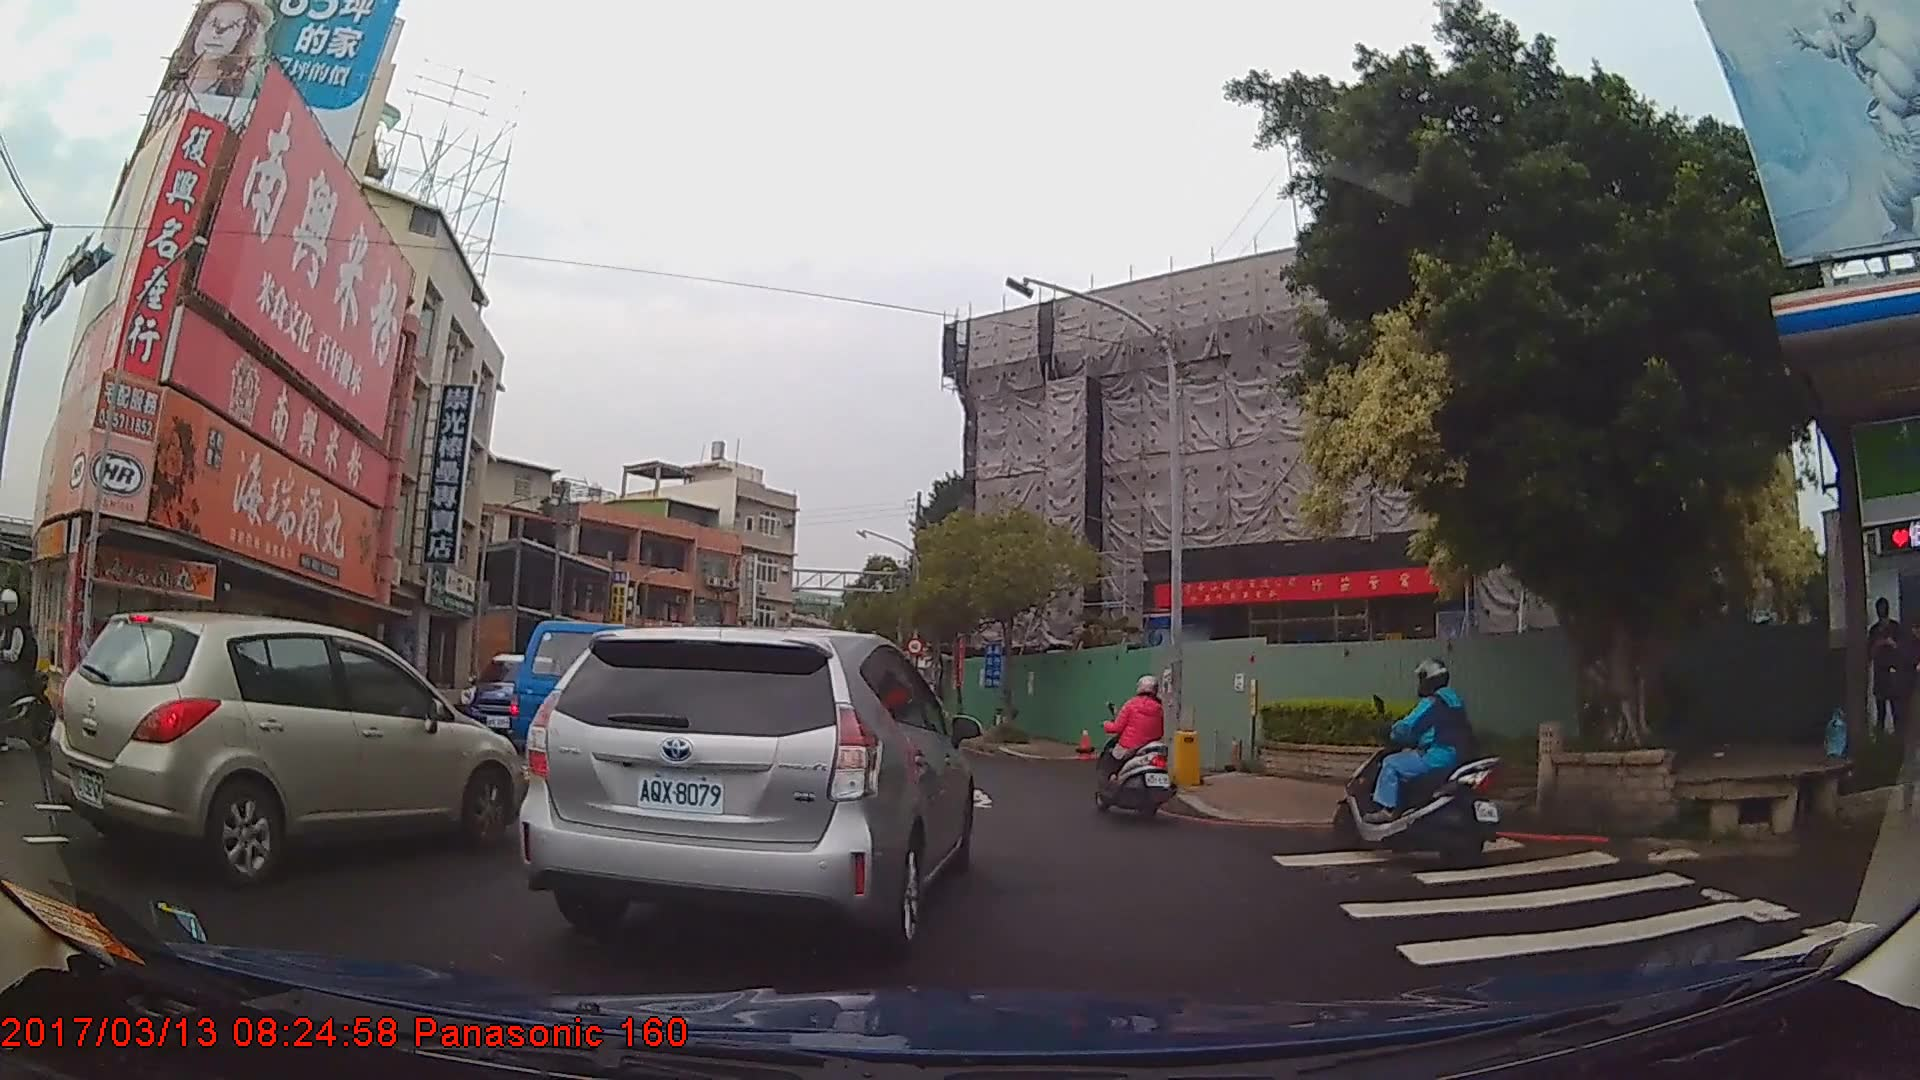pedestrian: (1865, 595, 1906, 734)
rider: (1337, 658, 1509, 863), (1090, 670, 1177, 819)
vehicle: (513, 623, 974, 954), (44, 610, 519, 887), (451, 649, 574, 754)
